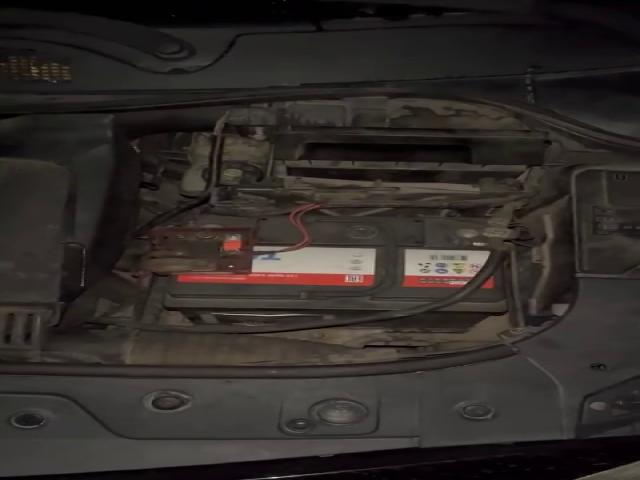accumulator: (143, 212, 509, 333)
